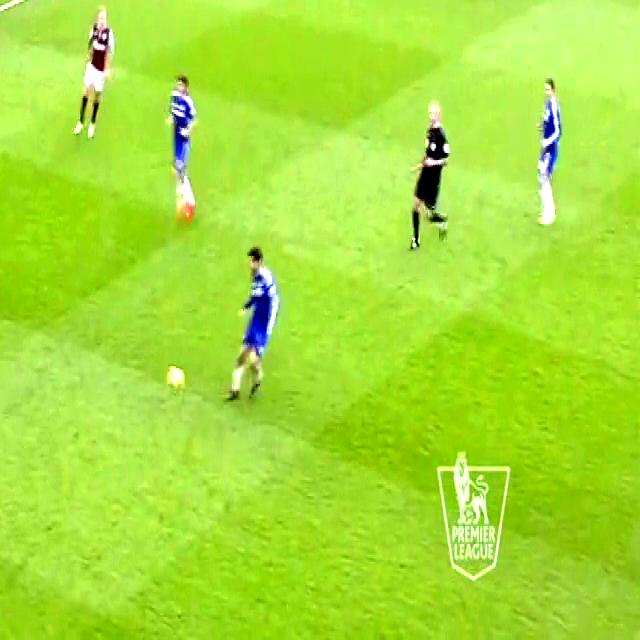ball: (166, 358, 188, 400)
referee: (407, 82, 460, 259)
soccer-player: (223, 237, 283, 409), (156, 60, 204, 231), (72, 0, 119, 146), (528, 70, 566, 234)
